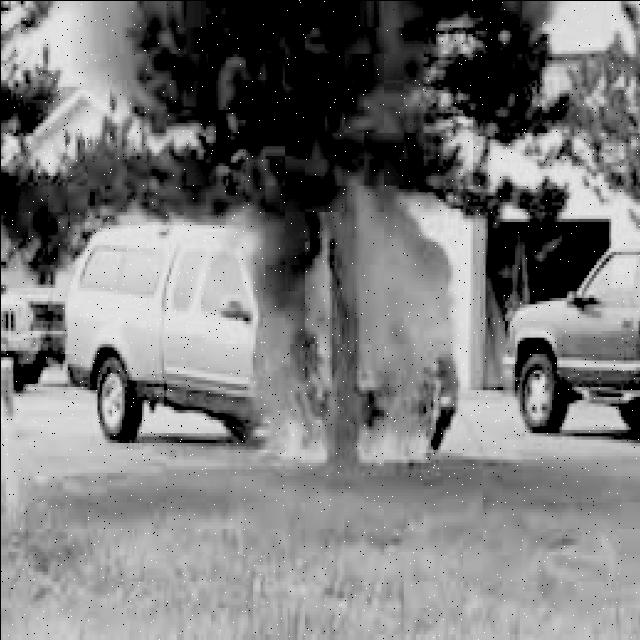api: (246, 203, 459, 480)
